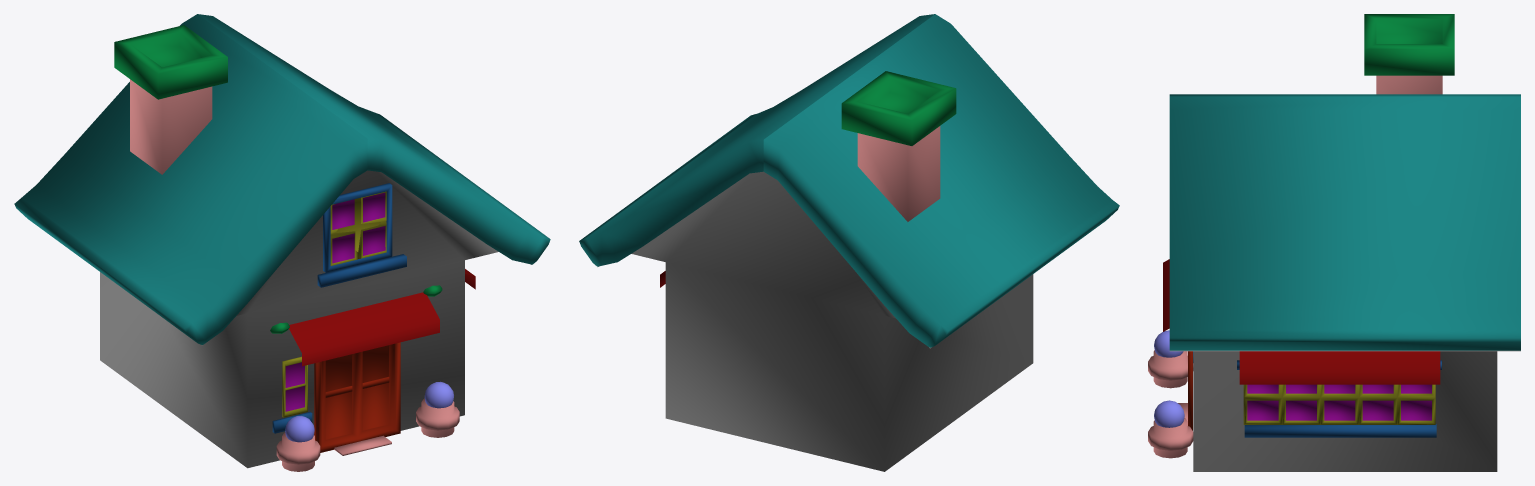
The model's file is year3 house1[08].fbx.
3 views of the same model, side by side, from view 1: azimuth 30°, elevation 25°; view 2: azimuth 150°, elevation 25°; view 3: azimuth 270°, elevation 25° (orthographic). The views are drawn at different scales.
Visible parts, largest first — view 1: Object002, Box001, Object001, Box005, Box003, Plane001, Box004, Shape001, Box007, Box016, Cylinder001, Cylinder002 (+3 smaller); view 2: Box001, Object002, Object001, Box005; view 3: Object001, Box001, Box002, Box005, Plane002, Box014, Cylinder002, Cylinder001, Object002, Sphere002, Plane001, Sphere001.
Part boxes in pixels (box(x1,y1,x2,y2)): Object002: box(14, 14, 367, 344); Box001: box(100, 170, 531, 468); Object001: box(198, 14, 550, 264); Box005: box(114, 25, 227, 174); Box003: box(314, 342, 400, 452); Plane001: box(289, 292, 439, 366); Box004: box(330, 191, 386, 265); Shape001: box(323, 183, 392, 272); Box007: box(282, 356, 307, 417); Box016: box(317, 254, 406, 287); Cylinder001: box(276, 432, 320, 471); Cylinder002: box(416, 398, 459, 437); Box001: box(598, 171, 1033, 471); Object002: box(763, 14, 1119, 347); Object001: box(579, 14, 934, 266); Box005: box(841, 71, 956, 221); Object001: box(1169, 96, 1520, 350); Box001: box(1170, 350, 1520, 471); Box002: box(1243, 384, 1435, 424); Box005: box(1364, 14, 1454, 94); Plane002: box(1239, 351, 1440, 384); Box014: box(1244, 424, 1436, 437); Cylinder002: box(1148, 418, 1193, 458); Cylinder001: box(1148, 350, 1193, 388); Object002: box(1169, 94, 1520, 96); Sphere002: box(1154, 400, 1184, 427); Plane001: box(1163, 259, 1169, 331); Sphere001: box(1154, 330, 1183, 357).
Bounding box in the file's own units: 72.28 × 63.21 × 61.83.
